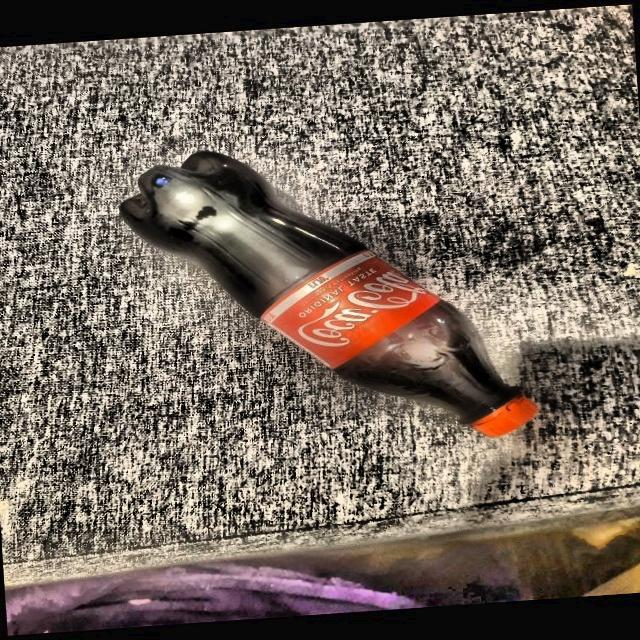coke-bottle: (117, 154, 537, 430)
